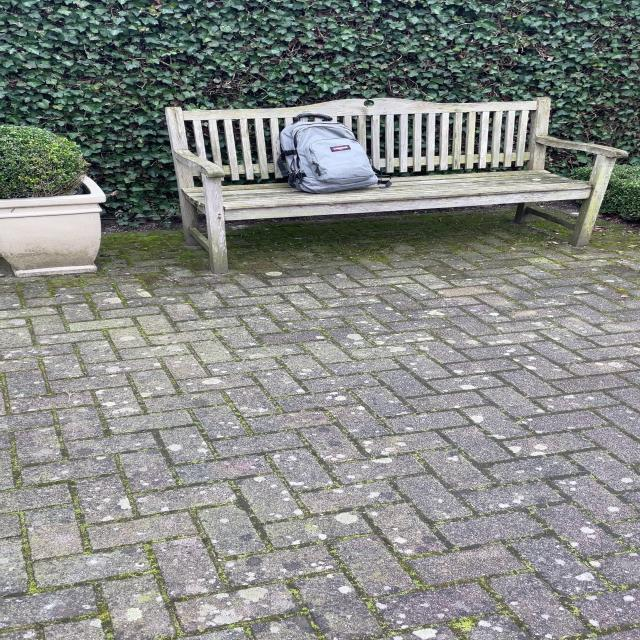backpack: (272, 112, 385, 196)
